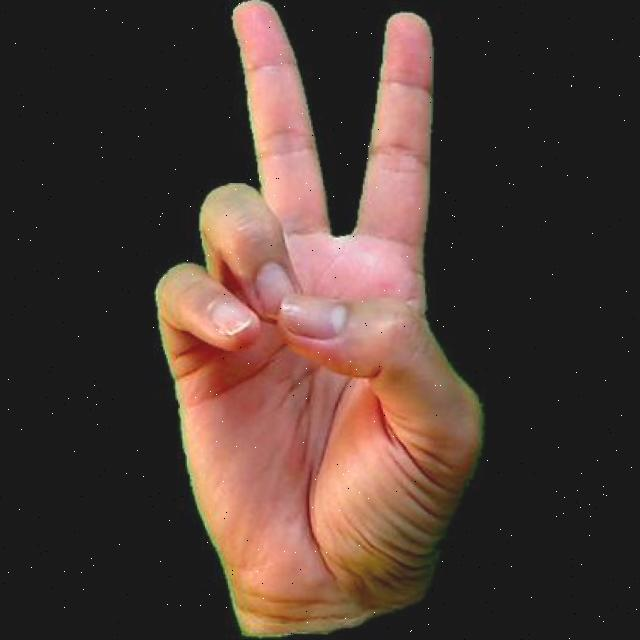v: (133, 0, 490, 640)
